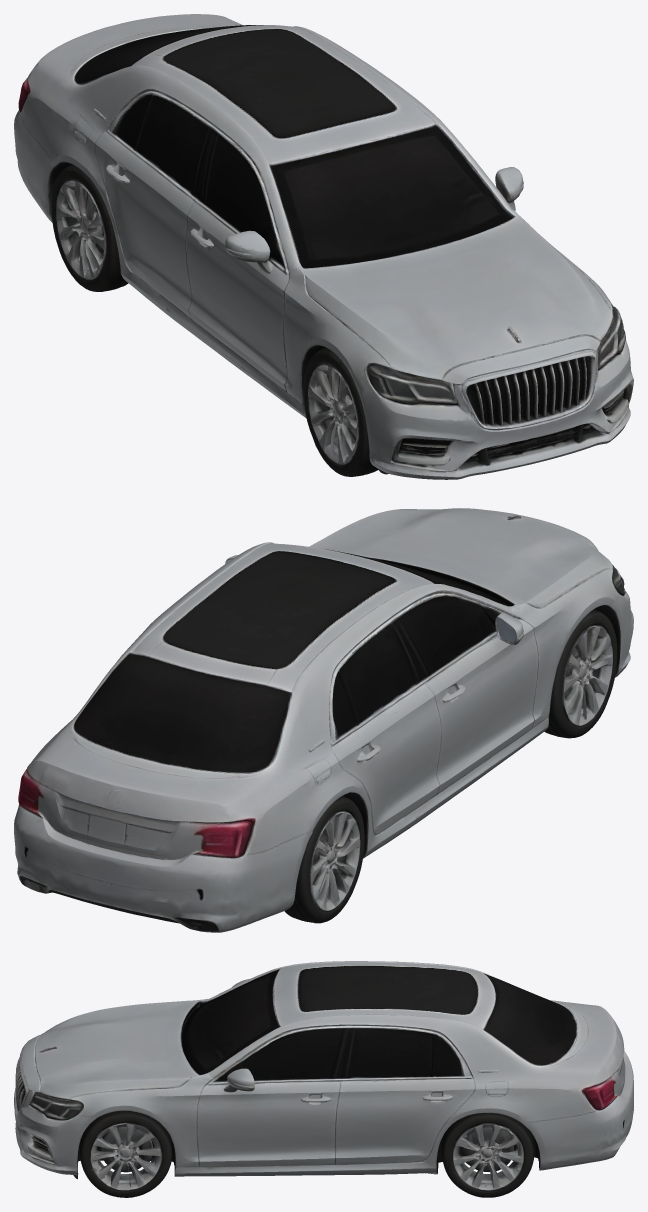
File: reference-sedan-v175.glb
3 views of the same model, one above another, from view 1: azimuth 30°, elevation 25°; view 2: azimuth 150°, elevation 25°; view 3: azimuth 270°, elevation 25° (orthographic). The views are drawn at different scales.
Visible parts, largest first — view 1: model; view 2: model; view 3: model.
Part boxes in pixels (<box>): model: <box>14,14,633,479</box>; model: <box>14,508,633,932</box>; model: <box>14,961,633,1197</box>.
Bounding box in the file's own units: 2.01 × 1.55 × 5.12.
Materials: 1 (1 with a texture image).
